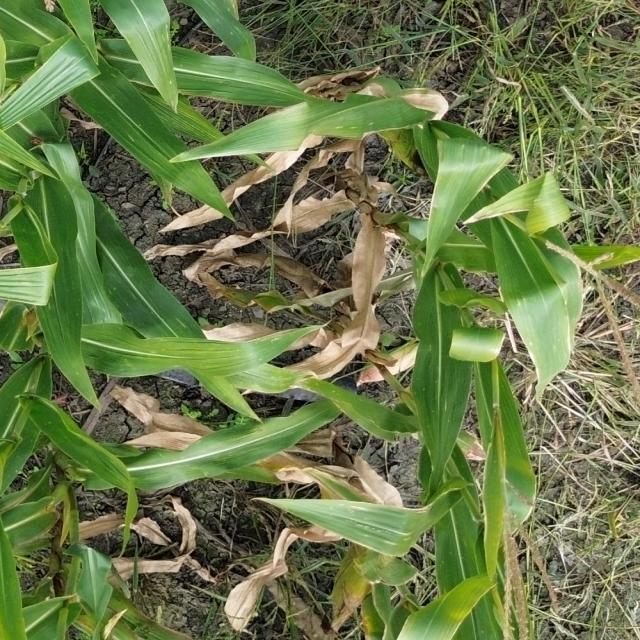gray-leaf-spot: (328, 496, 447, 569)
southern-leaf-blight: (52, 265, 198, 377), (493, 293, 605, 402), (194, 14, 284, 111), (420, 322, 476, 468)
